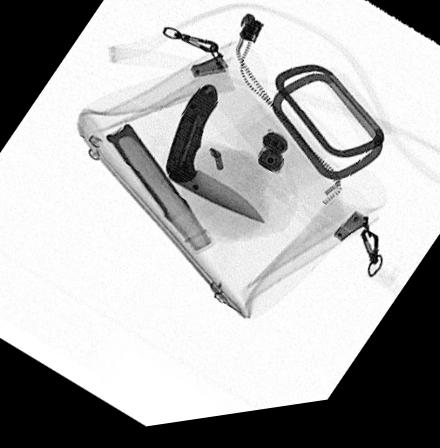Knife: (164, 86, 267, 232)
